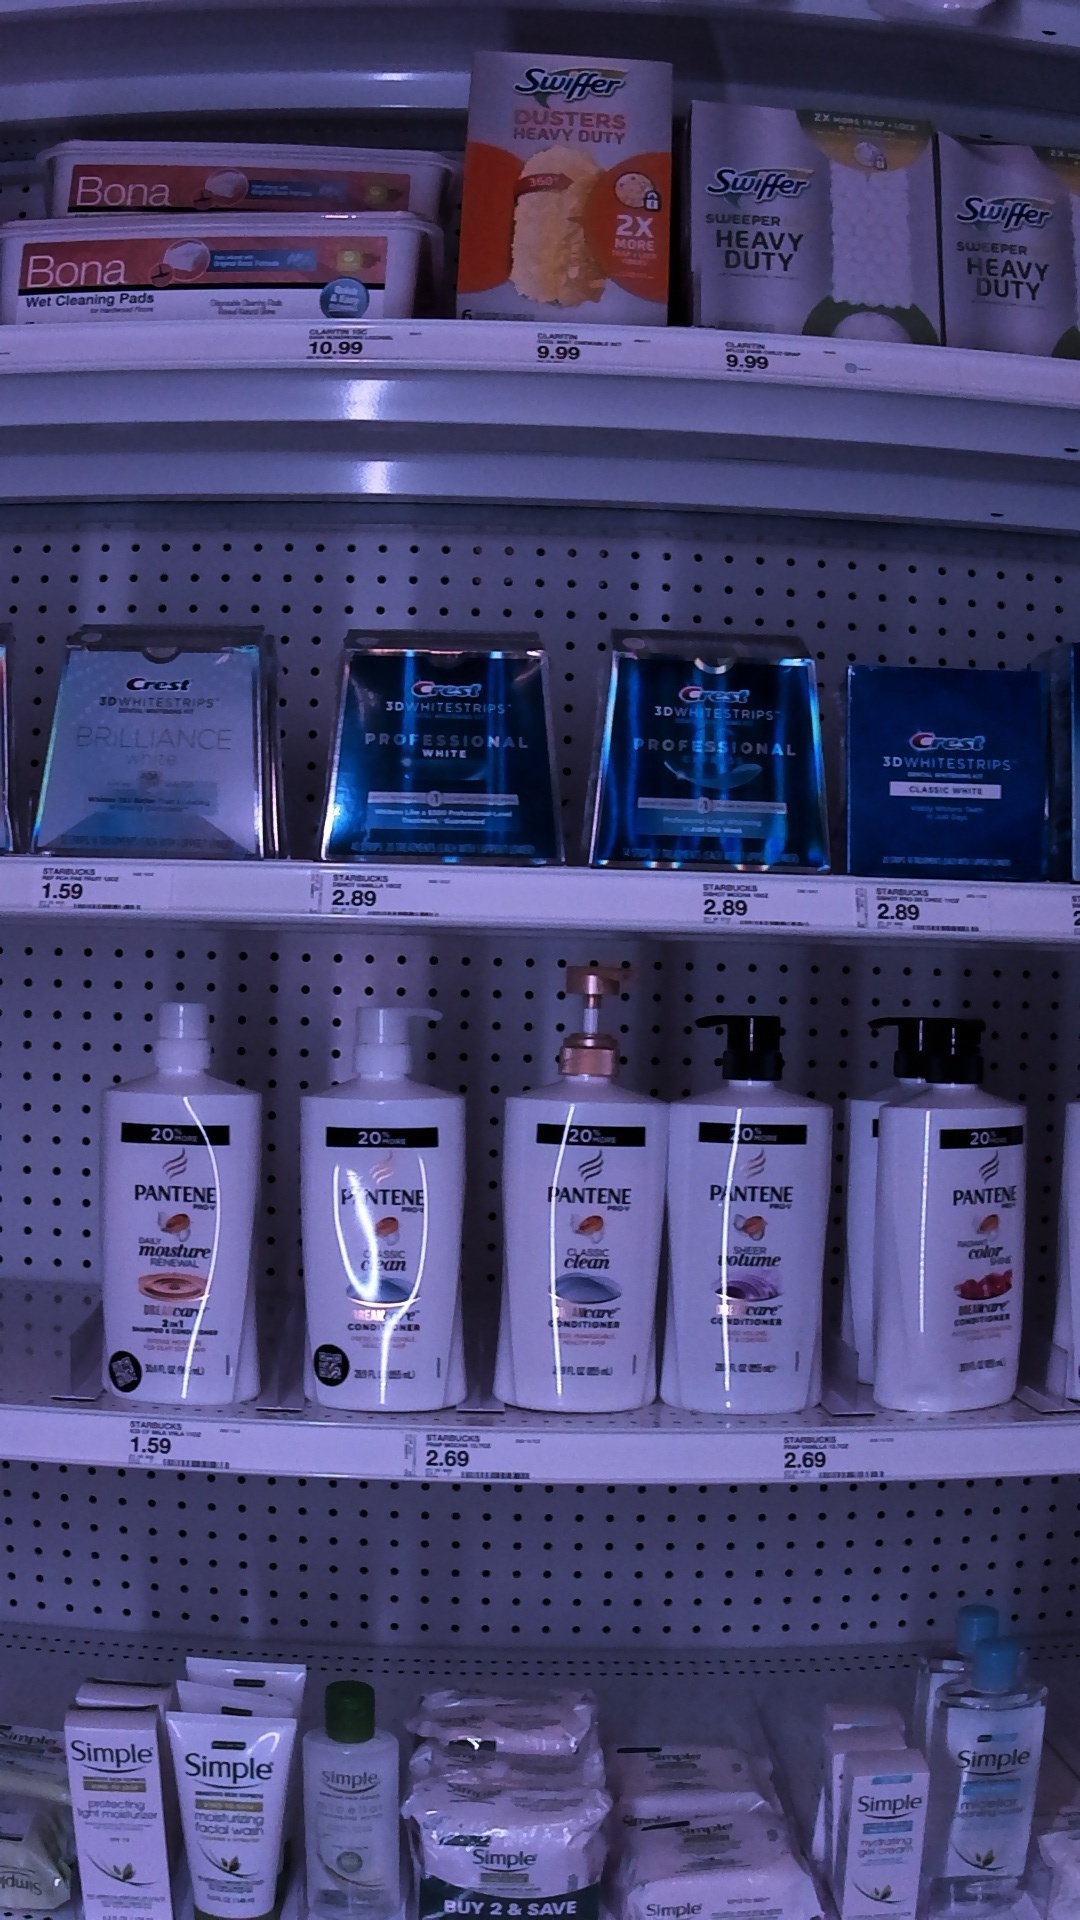ptag: (396, 1422, 545, 1486), (306, 862, 454, 924), (851, 877, 1000, 938), (33, 855, 166, 915), (120, 1414, 249, 1476), (688, 873, 820, 931), (769, 1425, 899, 1484), (720, 331, 862, 384), (305, 320, 442, 371), (531, 322, 644, 380)
